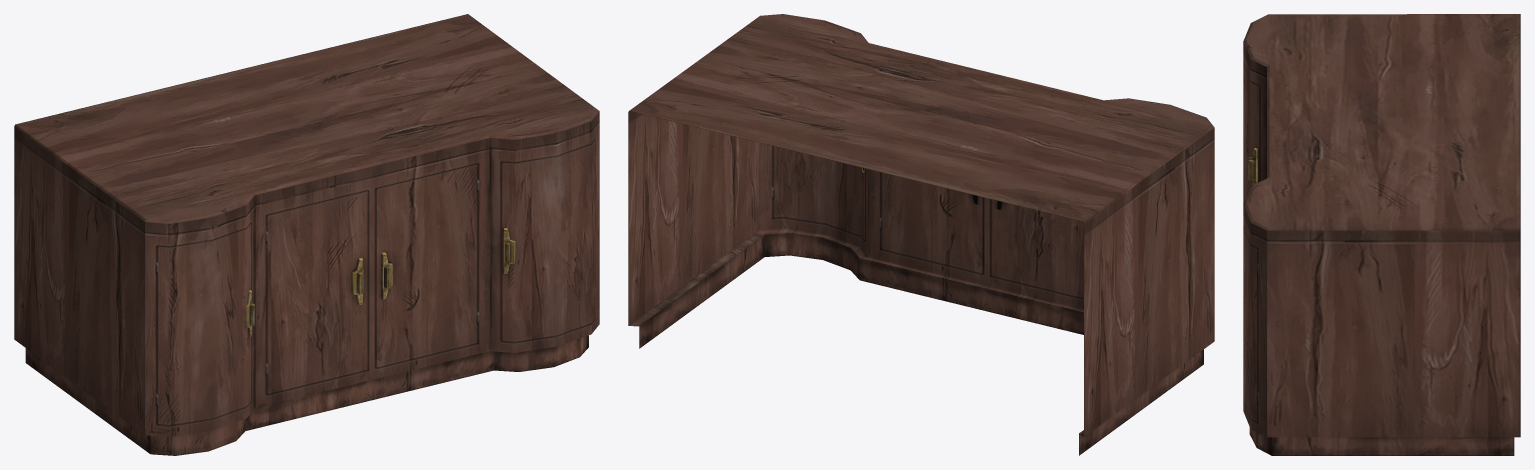
The model's file is chestOfDrawers.fbx.
3 views of the same model, side by side, from view 1: azimuth 30°, elevation 25°; view 2: azimuth 150°, elevation 25°; view 3: azimuth 270°, elevation 25° (orthographic). The views are drawn at different scales.
Visible parts, largest first — view 1: polySurface253; view 2: polySurface253; view 3: polySurface253.
Part boxes in pixels (x1,y1,x2,y2): polySurface253: (14,14,599,455); polySurface253: (628,14,1214,455); polySurface253: (1243,14,1520,455).
Bounding box in the file's own units: 154 × 76.95 × 83.71.
